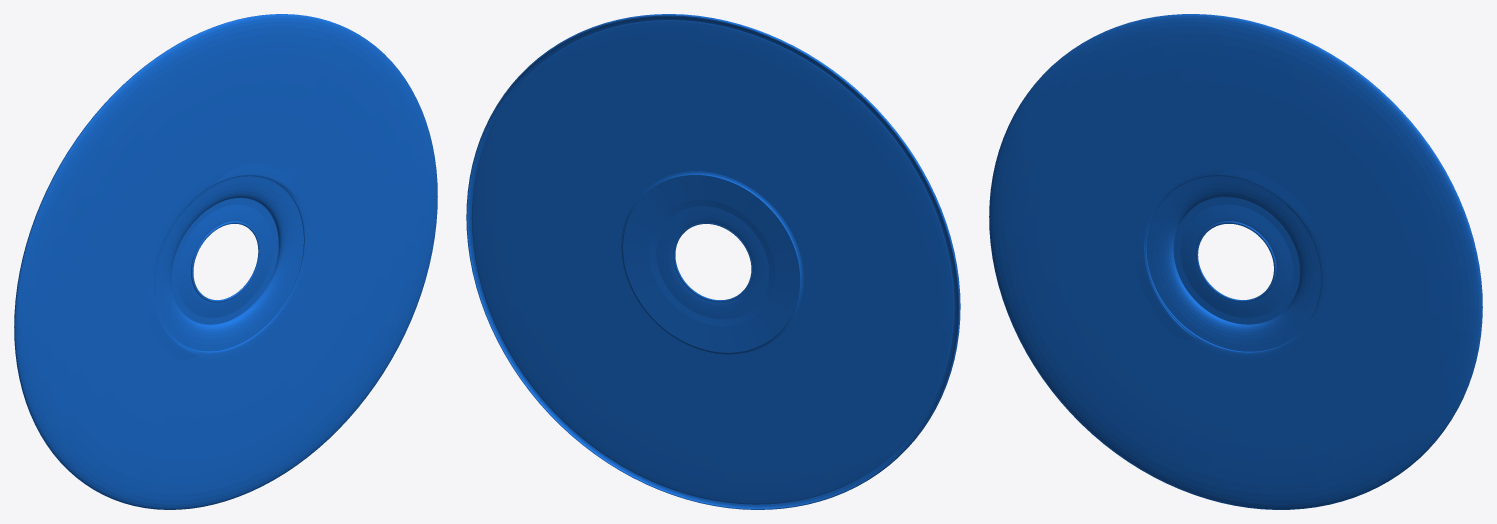
3 renders of one model, left to right at view 1: azimuth 30°, elevation 25°; view 2: azimuth 150°, elevation 25°; view 3: azimuth 330°, elevation 25°, orthographic. The views are drawn at different scales.
Visible parts, largest first — view 1: Circle; view 2: Circle; view 3: Circle.
Part boxes in pixels (bbox=[...]): Circle: bbox=[14, 14, 437, 509]; Circle: bbox=[466, 14, 960, 509]; Circle: bbox=[989, 14, 1482, 509].
Size of the model in its own units: 1.91 by 1.93 by 0.2361.
